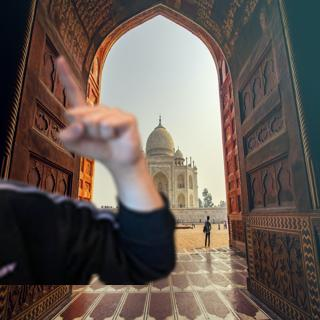IRRITATED: (49, 54, 144, 171)
